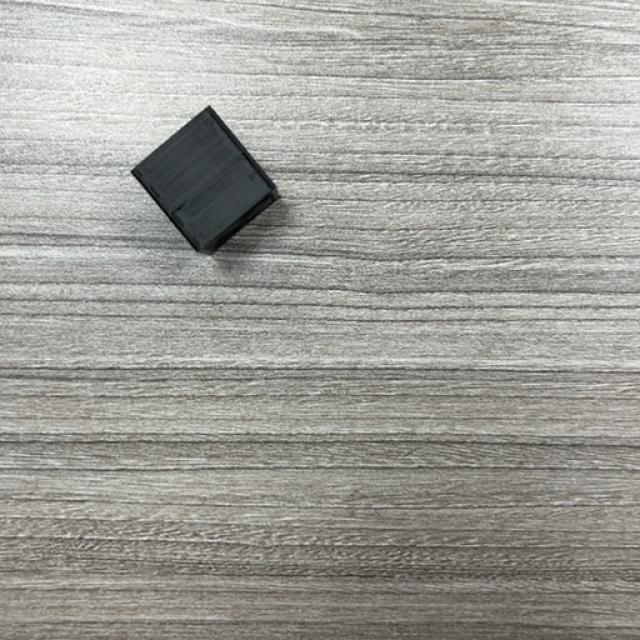Negro: (130, 108, 281, 256)
